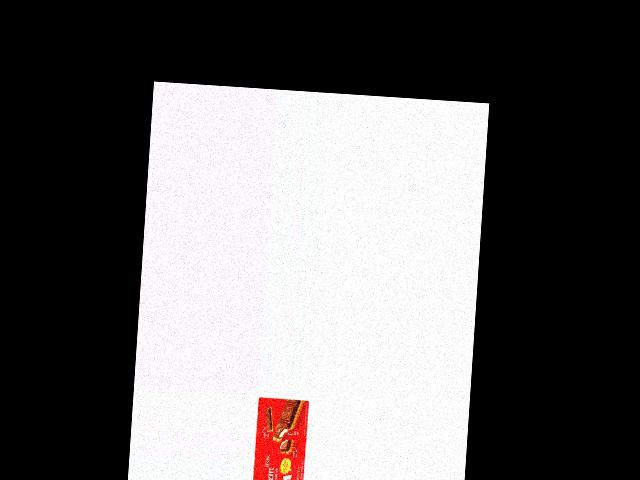chocolate: (250, 396, 309, 480)
